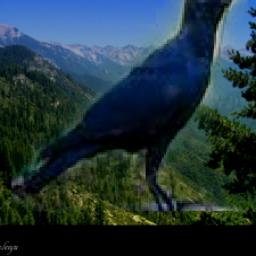Crow: (11, 0, 248, 212)
